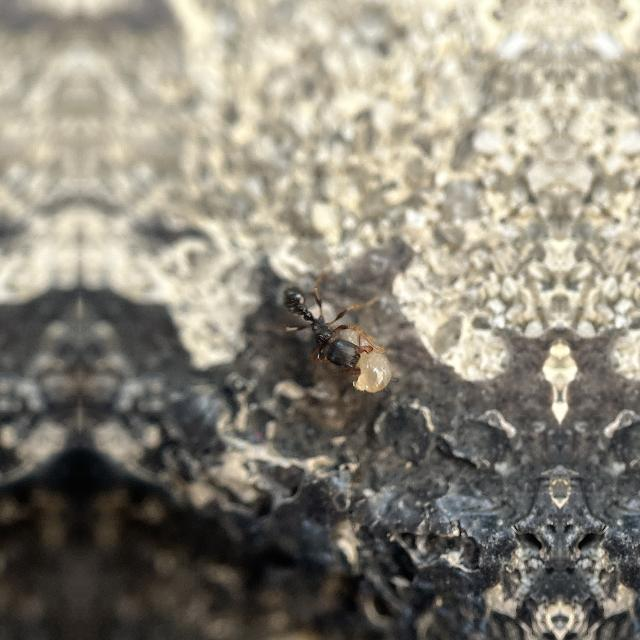Tetramorium: (264, 266, 378, 376)
